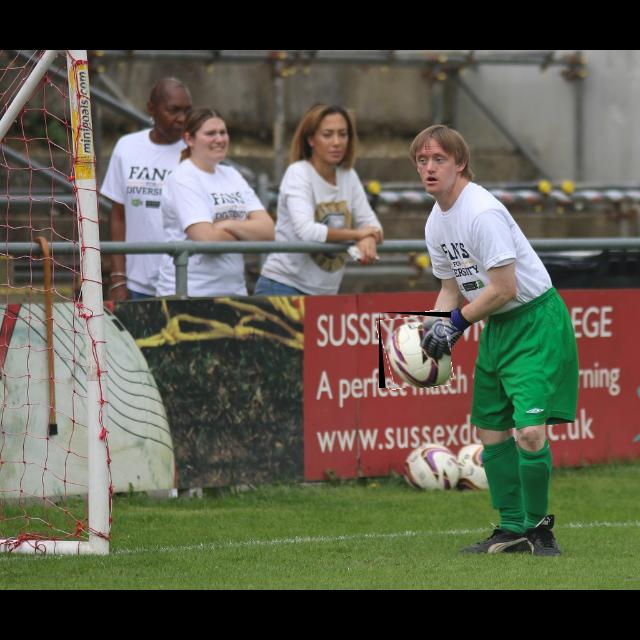Football: (379, 312, 451, 388)
